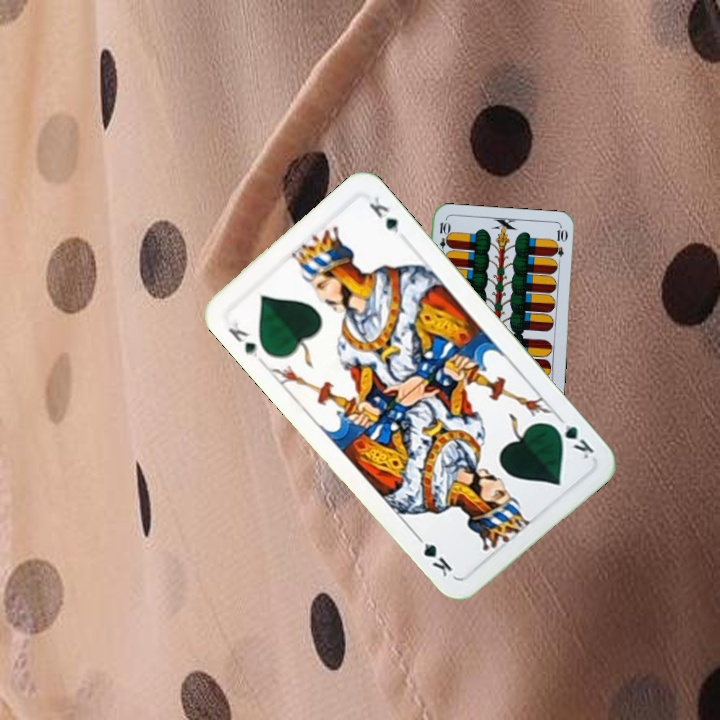E10: (435, 218, 450, 259)
GK: (547, 412, 597, 462), (224, 317, 262, 361)
